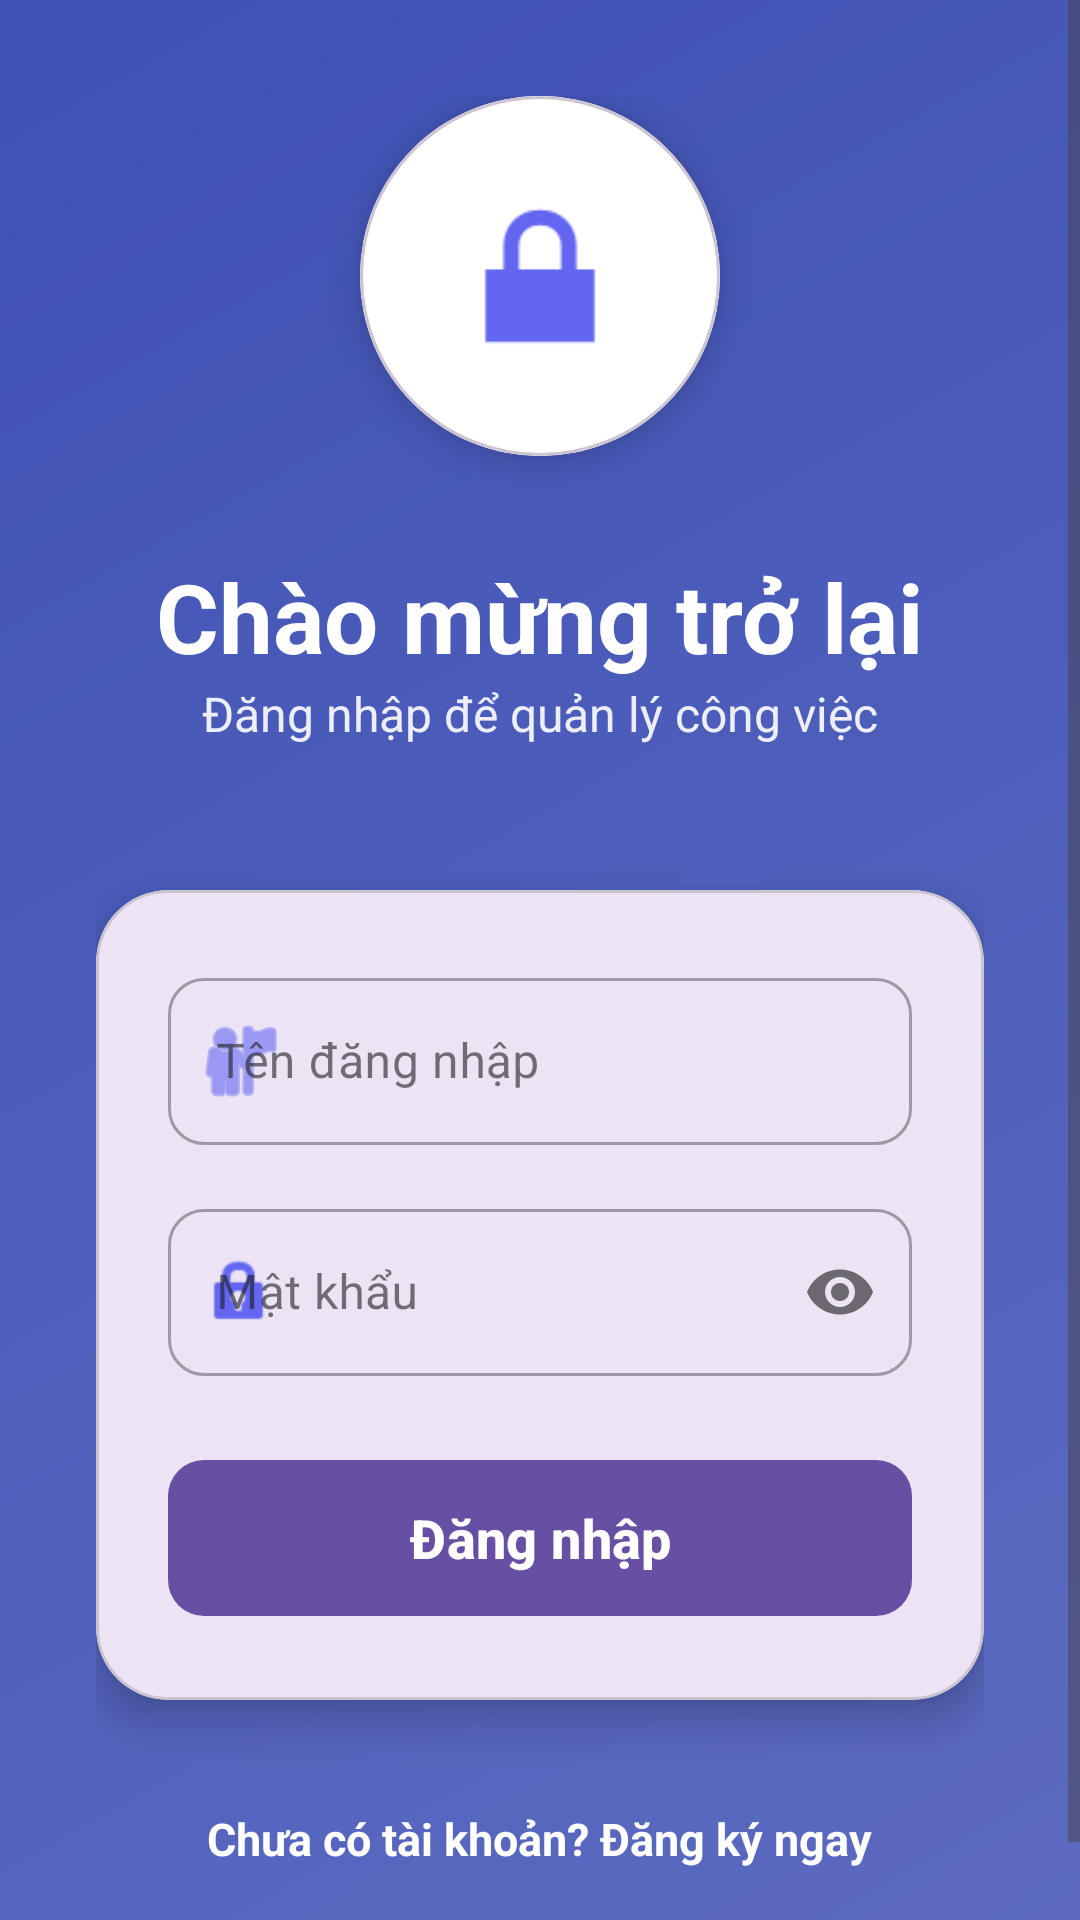

Screen size 1080 x 1920. Icon name, then its box in pixels as (x1, y1, x2, y2):
lock: (485, 209, 595, 343)
